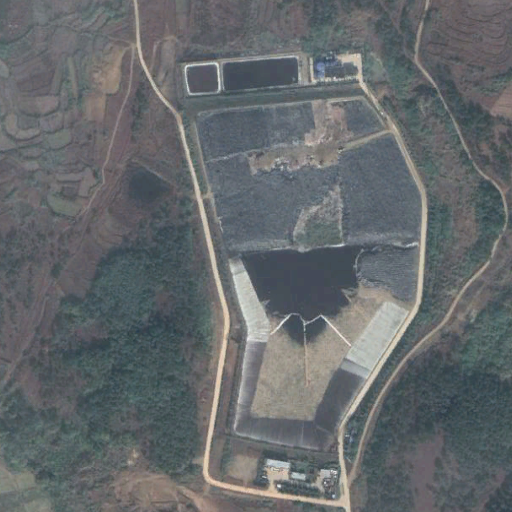lf: (195, 105, 425, 451)
